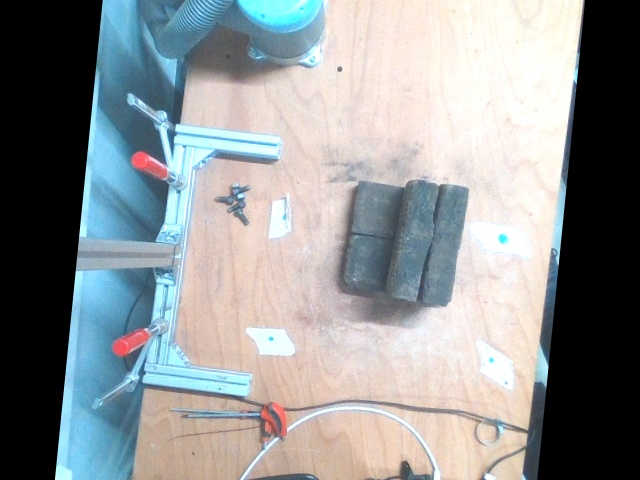brick-side: (393, 182, 438, 297), (426, 188, 470, 304)
